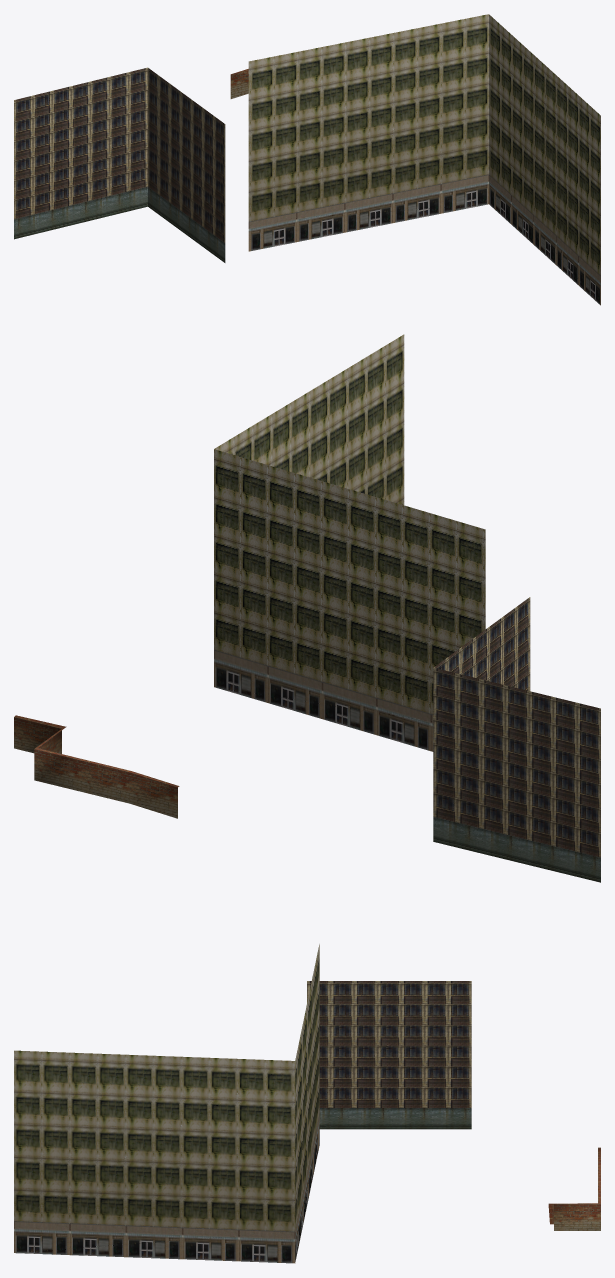
File: M10_Z02_07_Wall.glb
The picture shows the model from 3 angles, top to bottom: view 1: azimuth 30°, elevation 25°; view 2: azimuth 150°, elevation 25°; view 3: azimuth 270°, elevation 25°; orthographic projection. The views are drawn at different scales.
Parts seen in each view (by area): view 1: M10_Z02_07_WALL; view 2: M10_Z02_07_WALL; view 3: M10_Z02_07_WALL.
Boxes of the visible parts, x1,y1,x2,y2 form: M10_Z02_07_WALL: (14,14,600,305); M10_Z02_07_WALL: (14,334,600,882); M10_Z02_07_WALL: (14,944,600,1263).
Bounding box in the file's own units: 45.04 × 19 × 49.91.
Materials: 5 (5 with a texture image).
